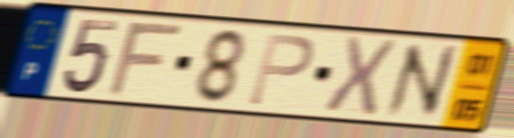5: (60, 16, 124, 95)
8: (192, 27, 250, 106)
F: (103, 21, 189, 99)
N: (382, 40, 460, 121)
P: (245, 30, 317, 109)
X: (320, 33, 400, 118)
